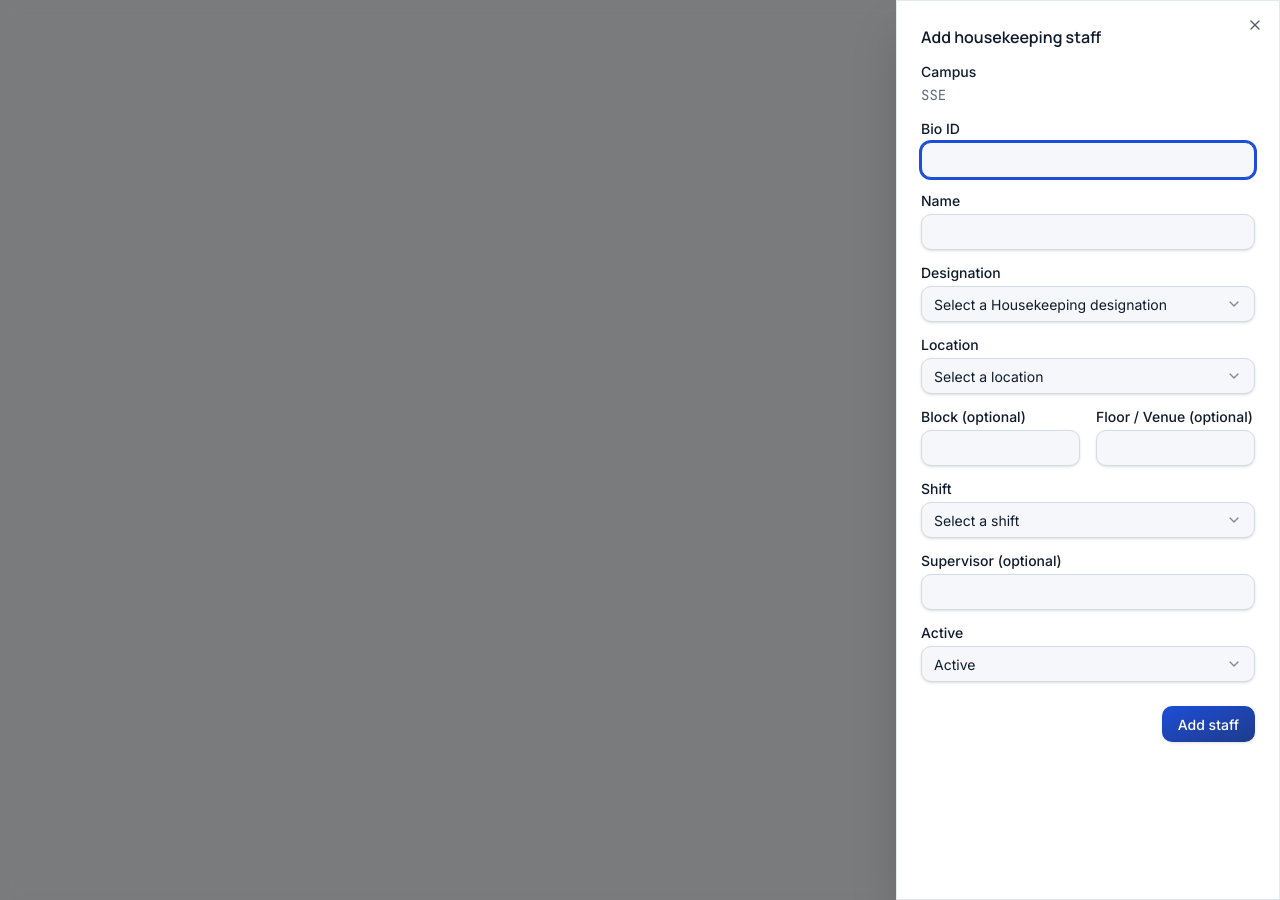
Test: HousekeepingStaffFormDrawer › shows required-field errors and blocks submit when bio_id/name are empty
Check: the heading "Add housekeeping staff" is shown, box left=921, top=26, right=1101, bottom=48
Click the button "Add staff".
click(1208, 724)  # box left=1162, top=706, right=1255, bottom=742
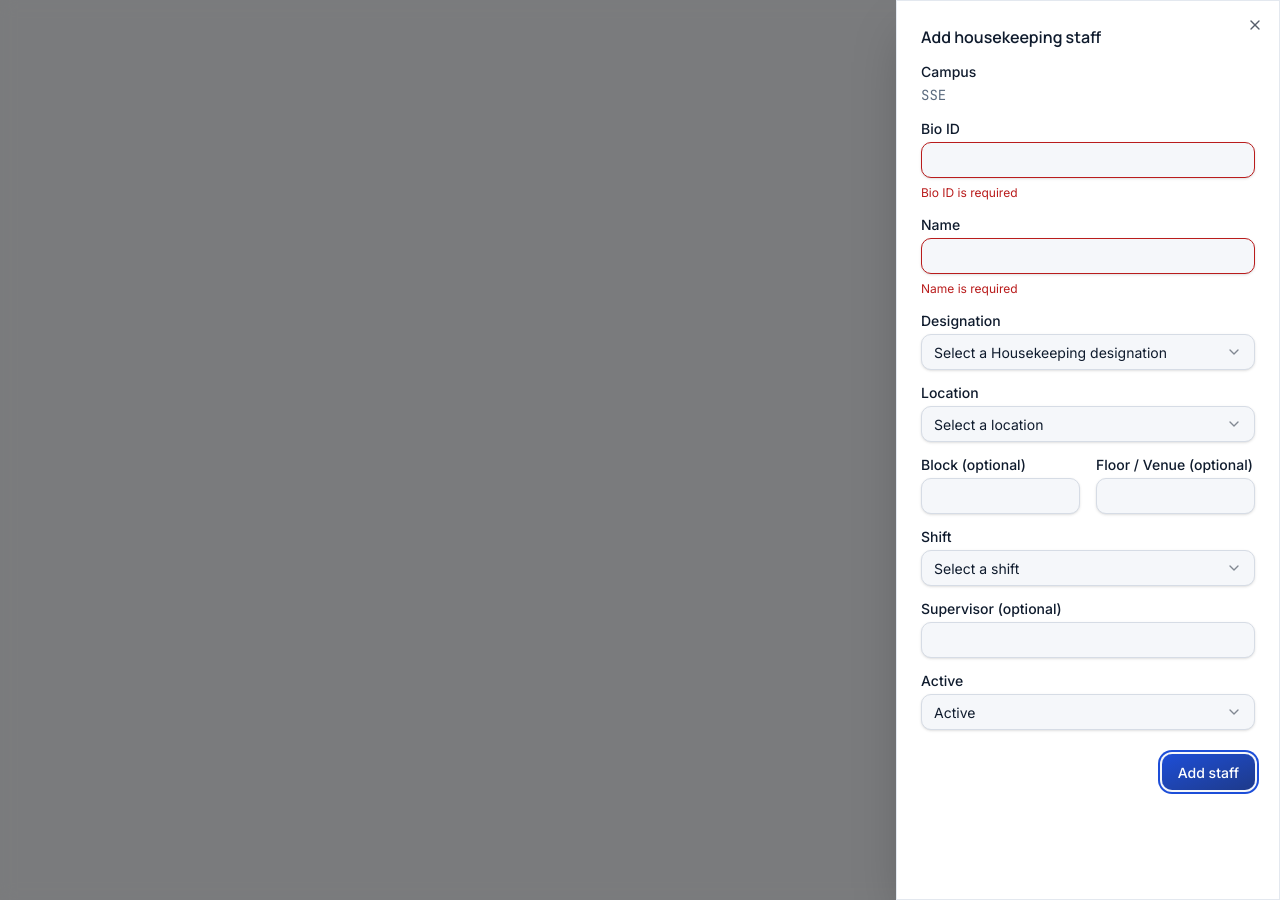
Check: the text "Bio ID is required" is shown, box left=921, top=185, right=1018, bottom=200
Check: the text "Name is required" is shown, box left=921, top=281, right=1018, bottom=296
